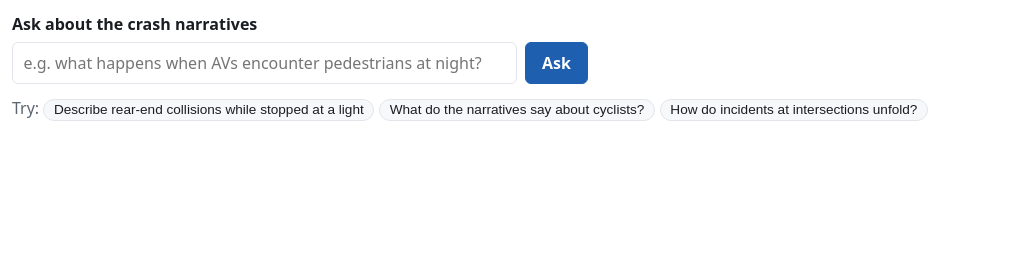
RagAsk › renders a subtle notice with relevant incidents on a fallback result
Type "pedestrians" into the field labelled "Ask about the crash narratives" at (265, 63), box [12,42,517,84]
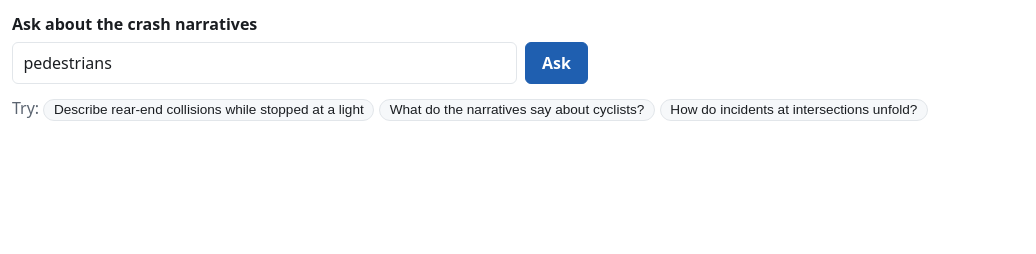
Submit the form, box [12,13,588,84]
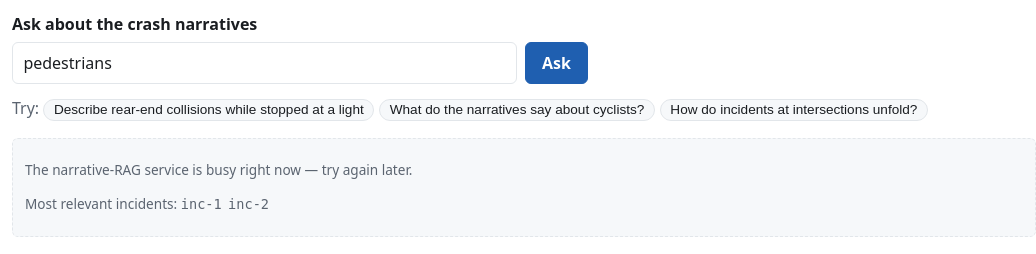
Now the element with class "notice" is shown, box [12,138,1035,237]
Now the text "busy right now" is shown, box [25,160,412,179]
Now the text "inc-2" is shown, box [228,196,269,212]
